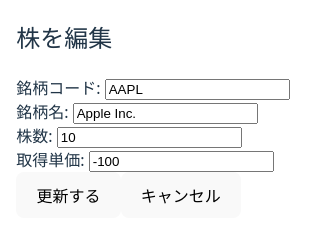
Test: EditStockForm › shows error message when pruchase price is negative and form is submitted
The width and height of the screenshot is (320, 245).
更新ボタンをクリック
Click the button "更新する" at (68, 195), box x1=16 y1=172 x2=121 y2=218
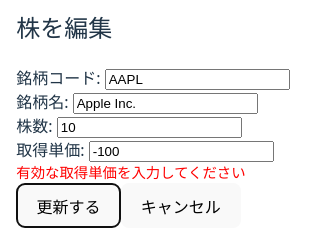
Now the text "有効な取得単価を入力してください" is shown, box x1=16 y1=162 x2=246 y2=182
